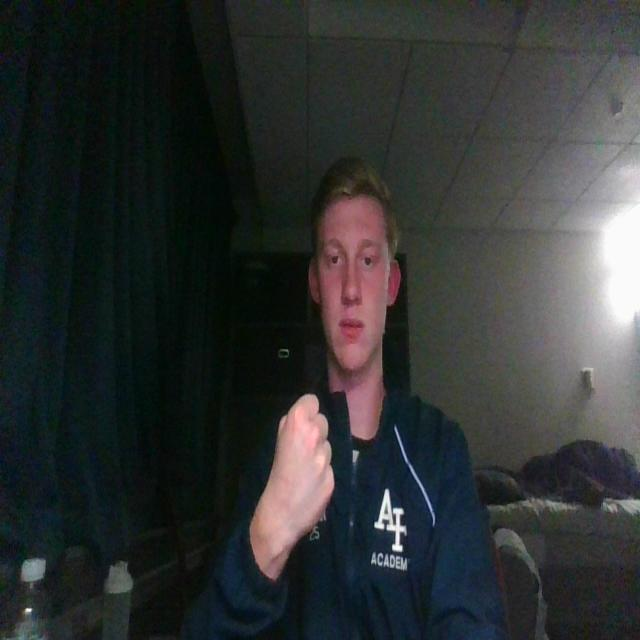rock: (245, 388, 339, 565)
